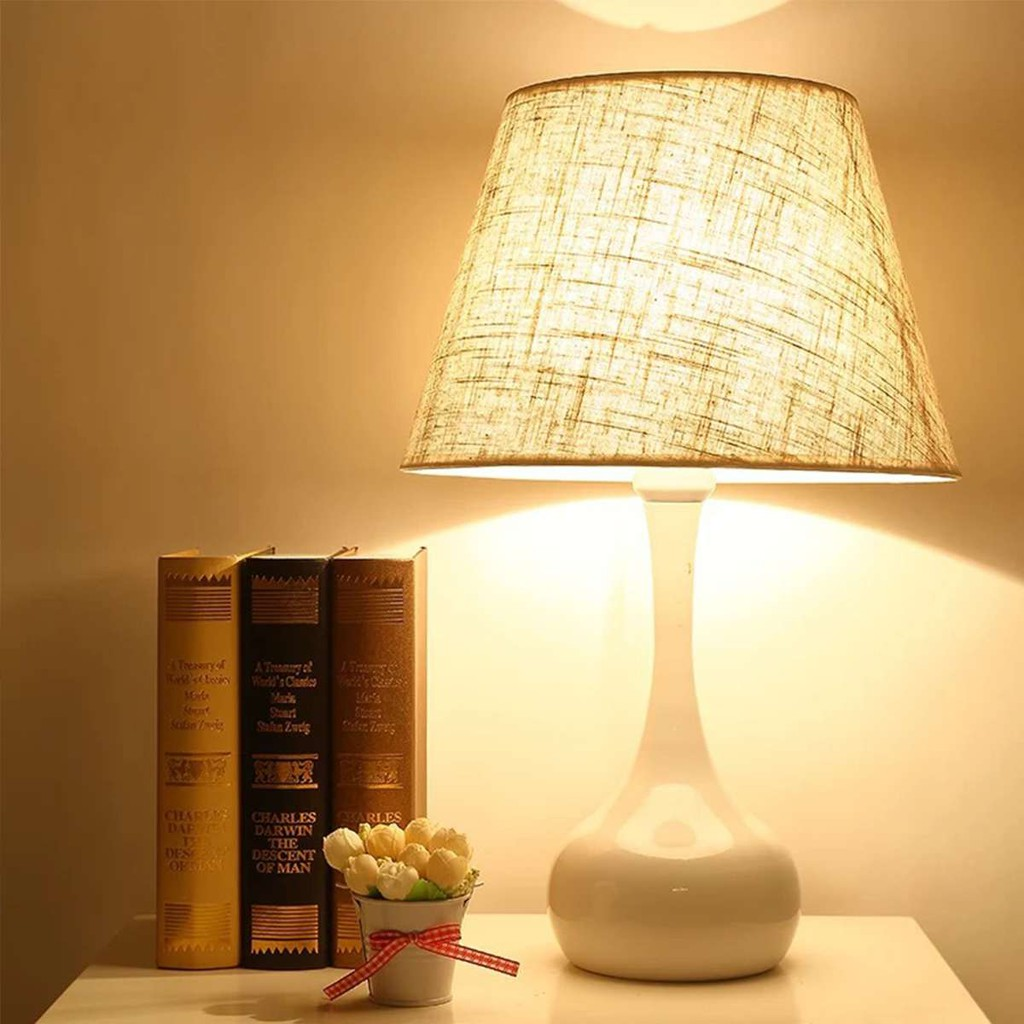buku: (151, 544, 429, 969)
lampu: (401, 63, 963, 981)
